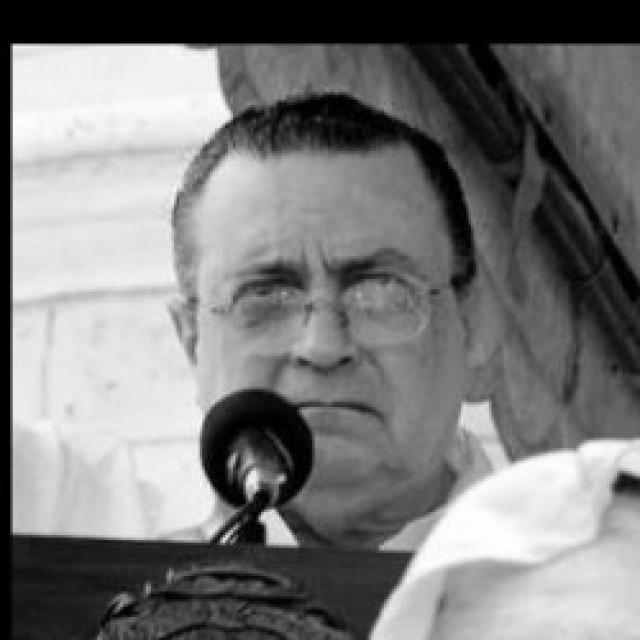real: (196, 156, 462, 500), (232, 268, 433, 335)
